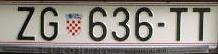-: (157, 22, 166, 27)
3: (112, 7, 130, 41)
6: (135, 7, 153, 41), (89, 6, 106, 41)
G: (40, 7, 59, 41)
T: (192, 7, 211, 42), (170, 8, 188, 41)
Z: (17, 7, 35, 41)
